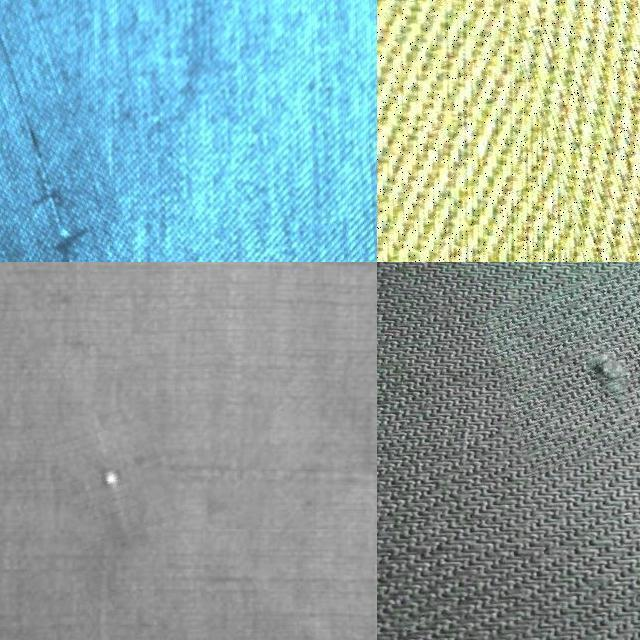other: (54, 402, 176, 542)
stains: (521, 0, 640, 262), (488, 269, 640, 464)
